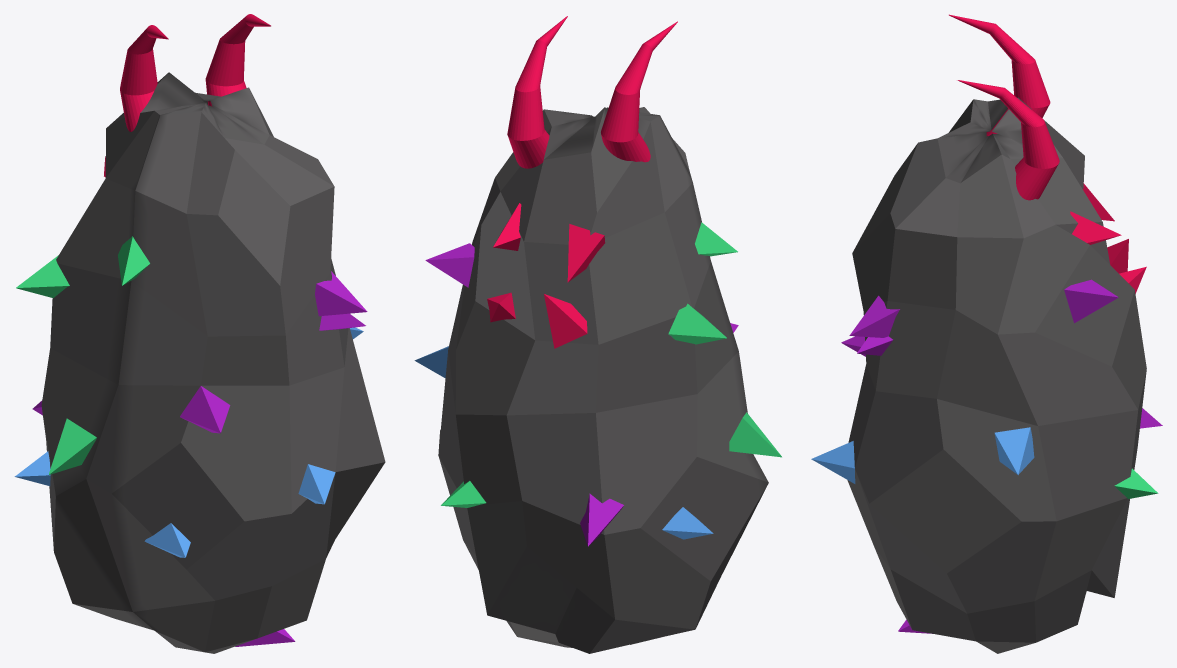
Rendered from SuperHevy.fbx.
The picture shows the model from 3 angles, left to right: view 1: azimuth 30°, elevation 25°; view 2: azimuth 150°, elevation 25°; view 3: azimuth 270°, elevation 25°; orthographic projection. The views are drawn at different scales.
Parts seen in each view (by area): view 1: Sphere; view 2: Sphere; view 3: Sphere.
Part boxes in pixels (x1=…): Sphere: x1=14, y1=14, x2=385, y2=653; Sphere: x1=414, y1=16, x2=781, y2=653; Sphere: x1=811, y1=14, x2=1162, y2=653.
Size of the model in its own units: 235 by 409 by 221.
